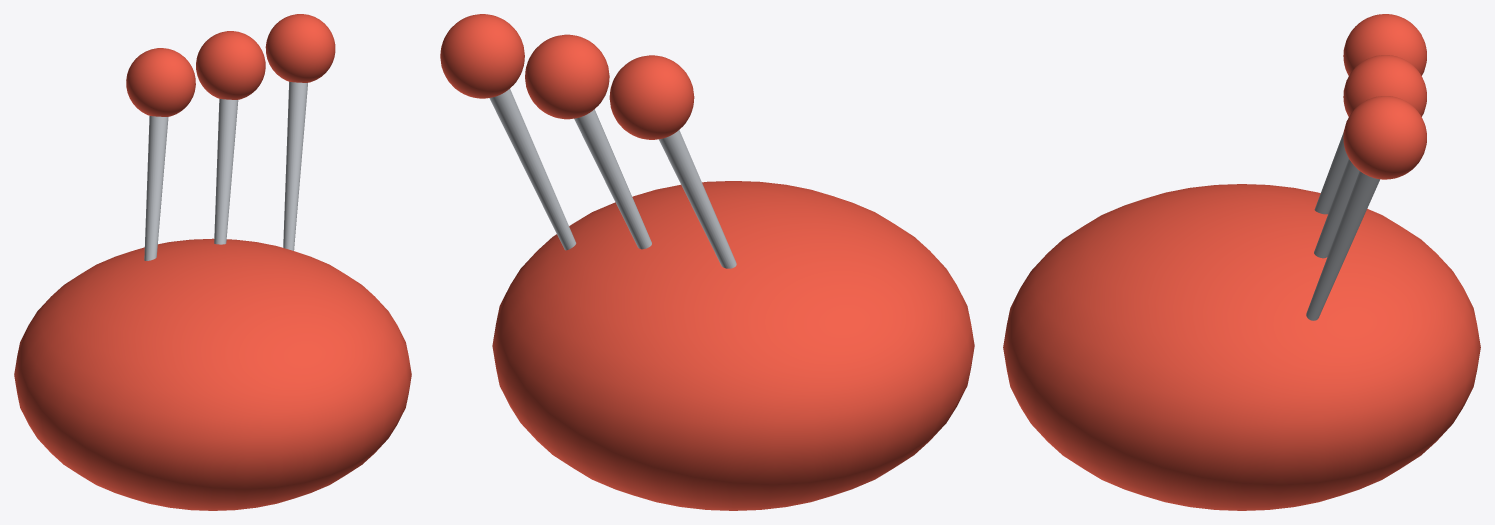
File: obstaculo_acerico.glb
3 renders of one model, left to right at view 1: azimuth 30°, elevation 25°; view 2: azimuth 150°, elevation 25°; view 3: azimuth 270°, elevation 25°, orthographic. The views are drawn at different scales.
Visible parts, largest first — view 1: Acerico, Cabeza [cabeza] (×3), Metal (×3); view 2: Acerico, Cabeza [cabeza] (×3), Metal (×3); view 3: Acerico, Cabeza [cabeza] (×3), Metal (×3).
Boxes of the visible parts, <box> form: Acerico: <box>14,238,411,510</box>; Cabeza [cabeza] (×3): <box>126,14,335,116</box>; Metal (×3): <box>144,81,307,260</box>; Acerico: <box>492,181,974,510</box>; Cabeza [cabeza] (×3): <box>440,14,694,139</box>; Metal (×3): <box>489,89,736,268</box>; Acerico: <box>1003,184,1480,510</box>; Cabeza [cabeza] (×3): <box>1343,14,1426,179</box>; Metal (×3): <box>1306,132,1379,320</box>.
Bounding box in the file's own units: 0.7513 × 0.791 × 0.74.
